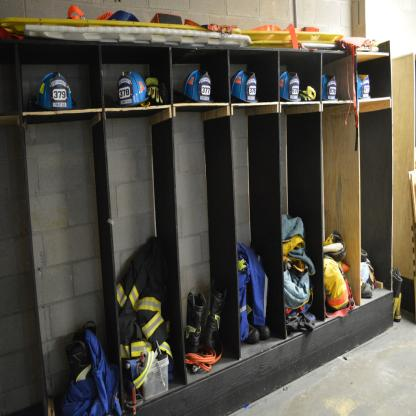Helmet: (116, 68, 152, 108), (38, 70, 75, 108), (182, 68, 213, 100), (231, 69, 259, 101), (278, 68, 302, 103), (322, 72, 337, 100), (358, 73, 372, 100)
